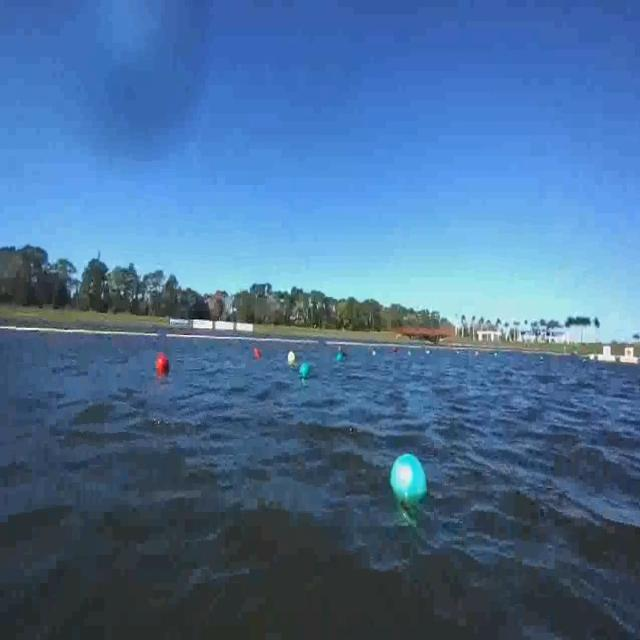green-buoy: (388, 453, 427, 505), (301, 361, 312, 377)
red-buoy: (158, 353, 170, 373)
red-column-buoy: (254, 348, 261, 360)
yellow-buoy: (287, 351, 296, 365)
